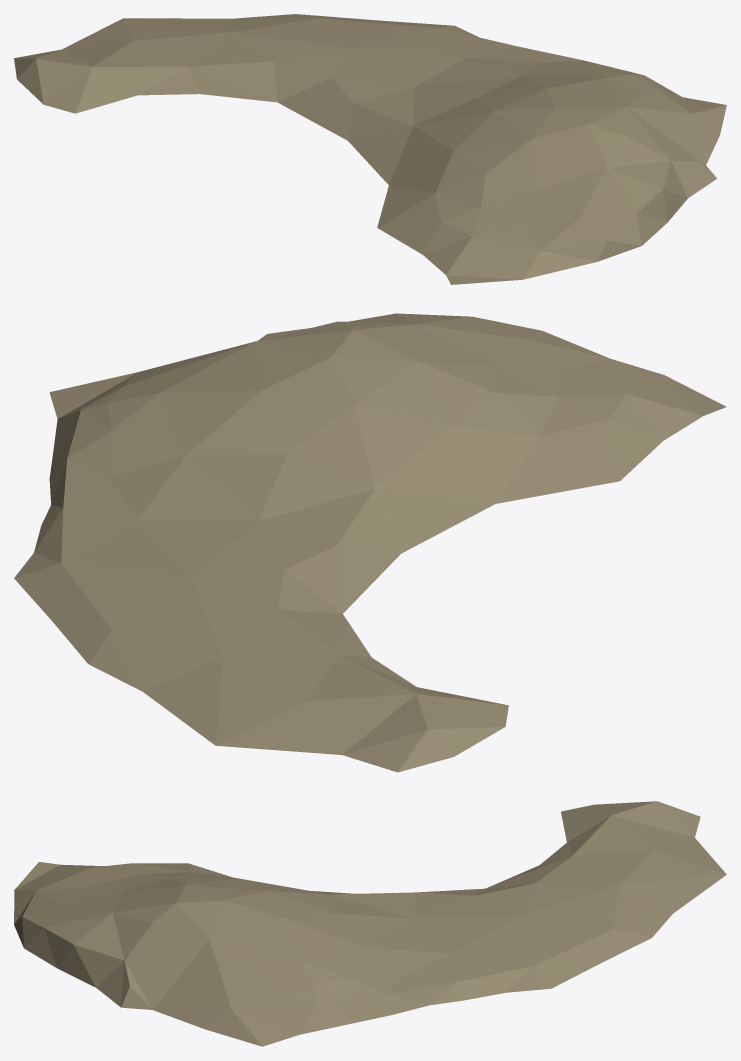
Rendered from Floor_Sand_md.fbx.
3 views of the same model, one above another, from view 1: azimuth 30°, elevation 25°; view 2: azimuth 150°, elevation 25°; view 3: azimuth 270°, elevation 25° (orthographic). The views are drawn at different scales.
Visible parts, largest first — view 1: Floor_Sand_md; view 2: Floor_Sand_md; view 3: Floor_Sand_md.
Boxes of the visible parts, left/top/right/bottom form: Floor_Sand_md: left=14, top=14, right=726, bottom=284; Floor_Sand_md: left=14, top=313, right=726, bottom=772; Floor_Sand_md: left=14, top=801, right=726, bottom=1046.
Bounding box in the file's own units: 471 × 51.45 × 586.
